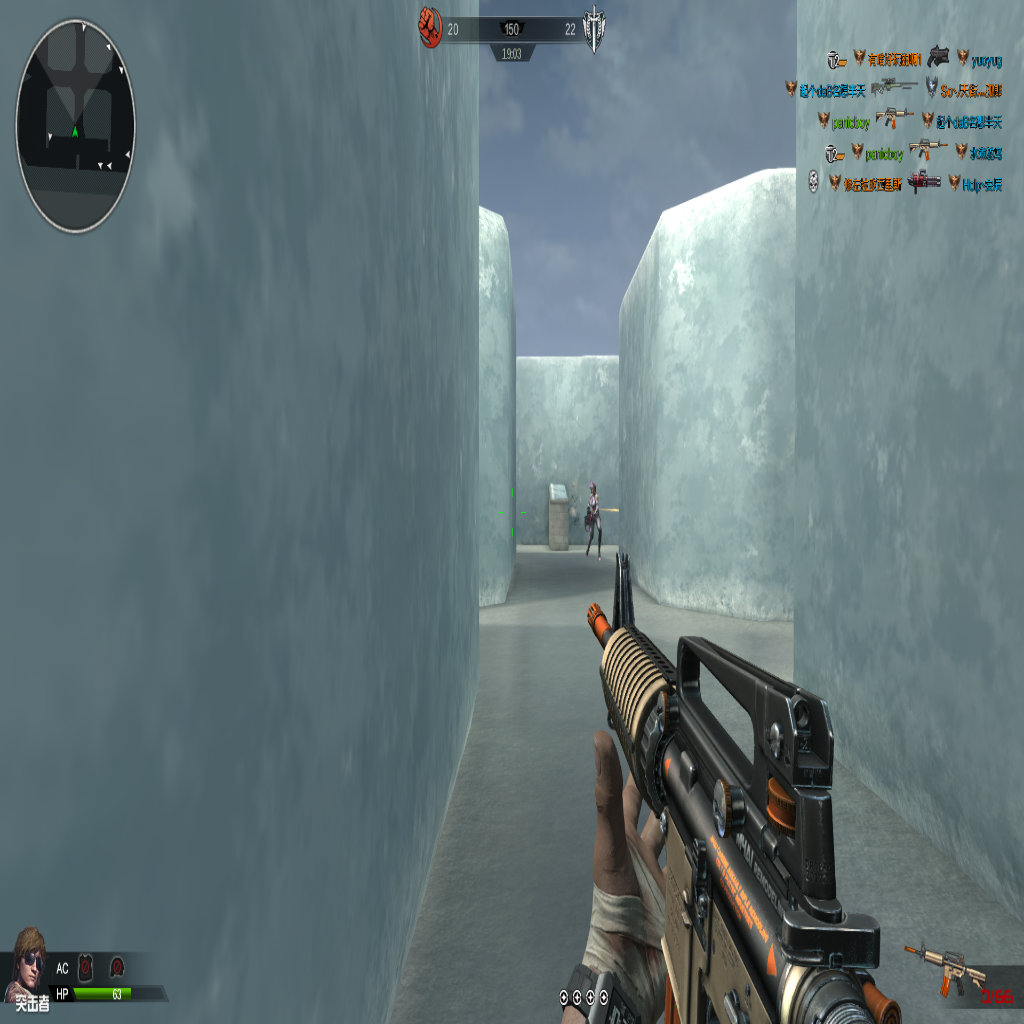tt: (587, 480, 602, 562)
